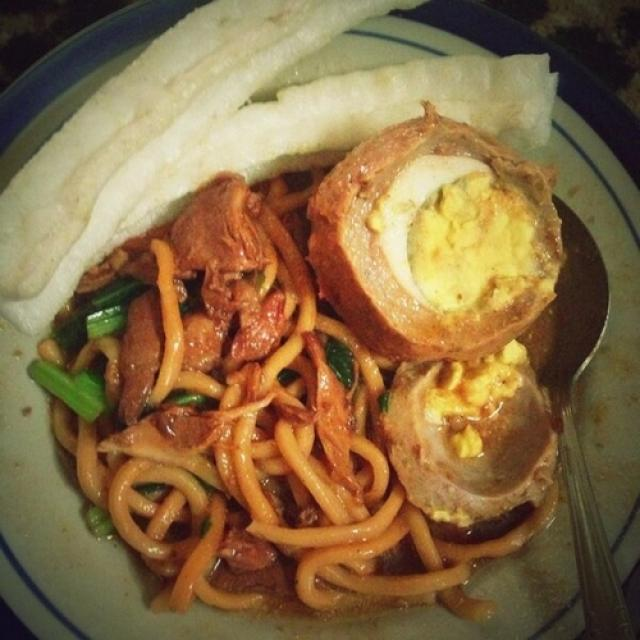面条主食: (29, 52, 599, 608)
